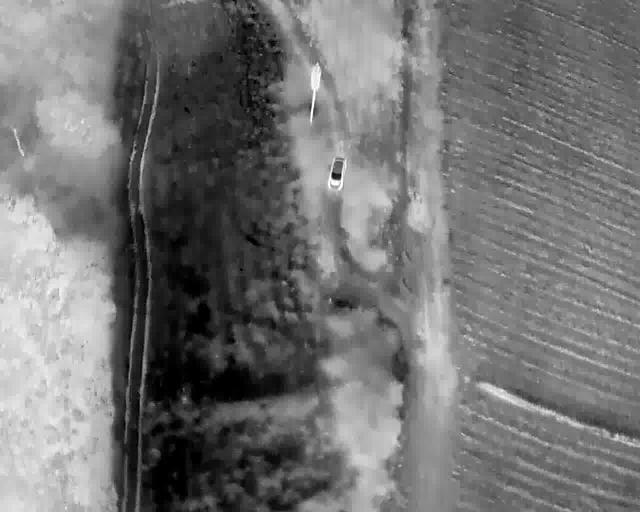car: (327, 157, 347, 191)
